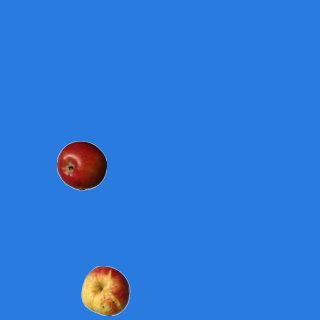Apple Braeburn: (56, 140, 106, 190)
Apple Red Yellow 1: (80, 265, 130, 315)
